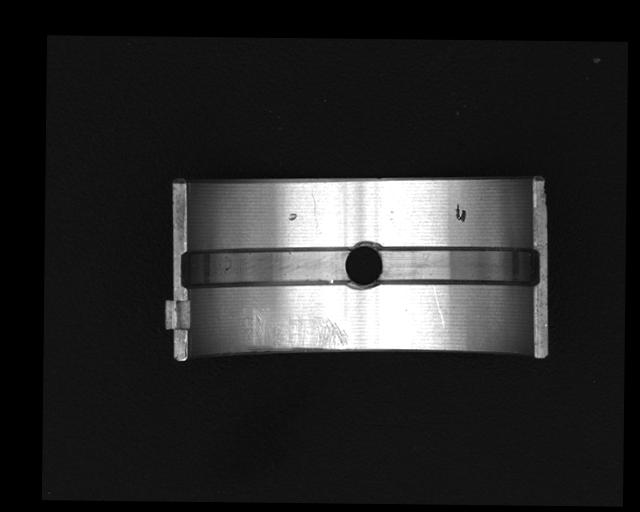blot: (454, 203, 466, 224)
bruise: (287, 212, 297, 221)
gap: (180, 244, 354, 291), (376, 245, 543, 288)
hole: (344, 241, 384, 293)
nick: (433, 285, 446, 329), (311, 193, 318, 228)
scratch: (242, 309, 349, 353)
